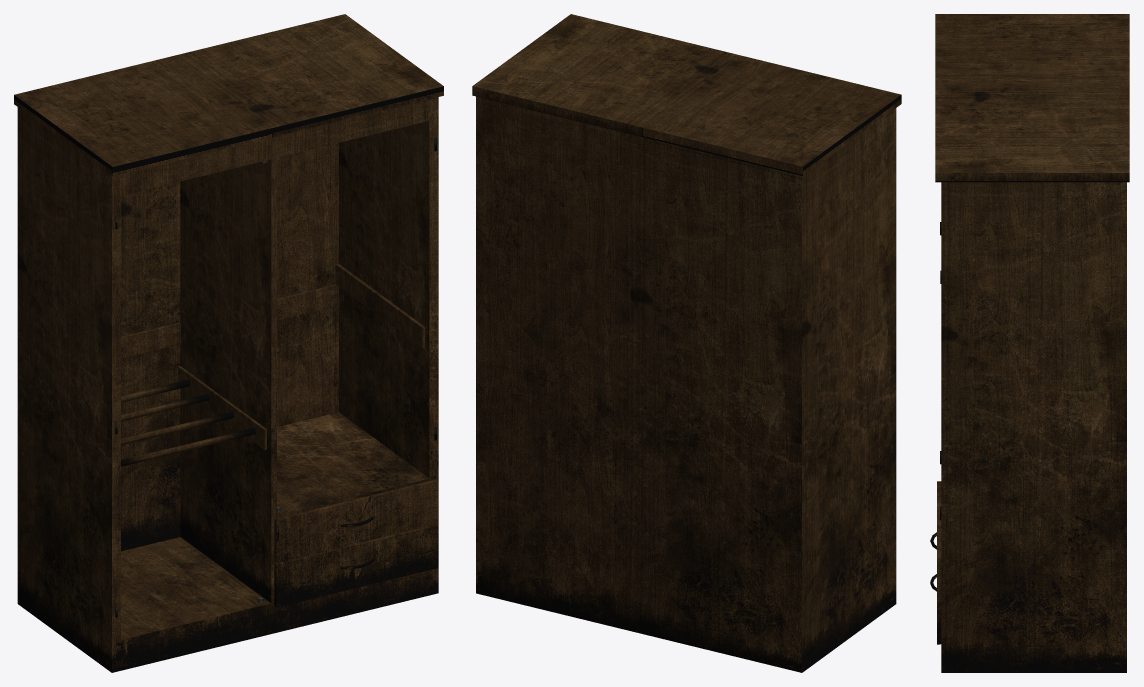
Rendered from closetCarcass02_b.FBX.
The picture shows the model from 3 angles, left to right: view 1: azimuth 30°, elevation 25°; view 2: azimuth 150°, elevation 25°; view 3: azimuth 270°, elevation 25°; orthographic projection.
Visible parts, largest first — view 1: SM_ClosetCarcass02; view 2: SM_ClosetCarcass02; view 3: SM_ClosetCarcass02.
Boxes of the visible parts, x1,y1,x2,y2 form: SM_ClosetCarcass02: [14, 14, 443, 672]; SM_ClosetCarcass02: [472, 14, 901, 672]; SM_ClosetCarcass02: [930, 14, 1129, 672].
Bounding box in the file's own units: 137 × 201 × 72.69.
1 material, 1 textured.
